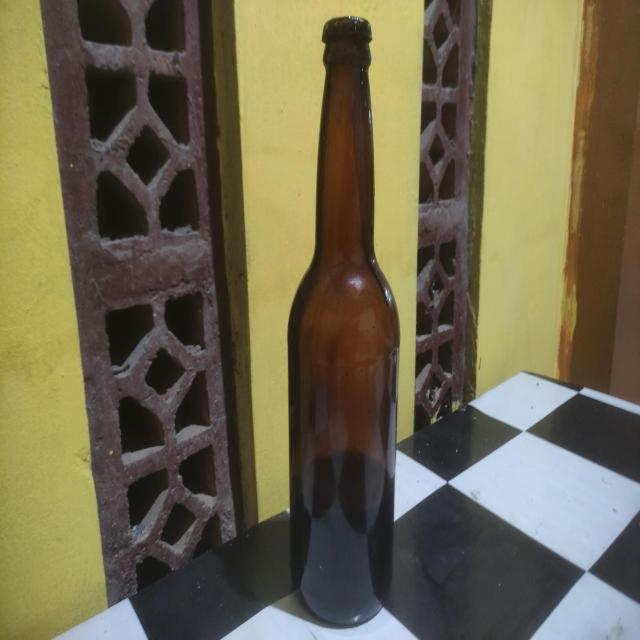BotolKaca: (286, 14, 400, 627)
